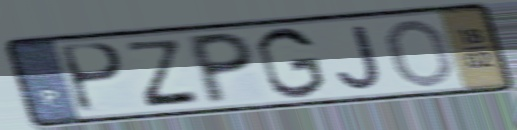G: (253, 25, 329, 101)
J: (333, 22, 385, 92)
O: (385, 16, 458, 90)
P: (188, 29, 256, 107), (60, 40, 128, 116)
Z: (123, 38, 205, 110)
